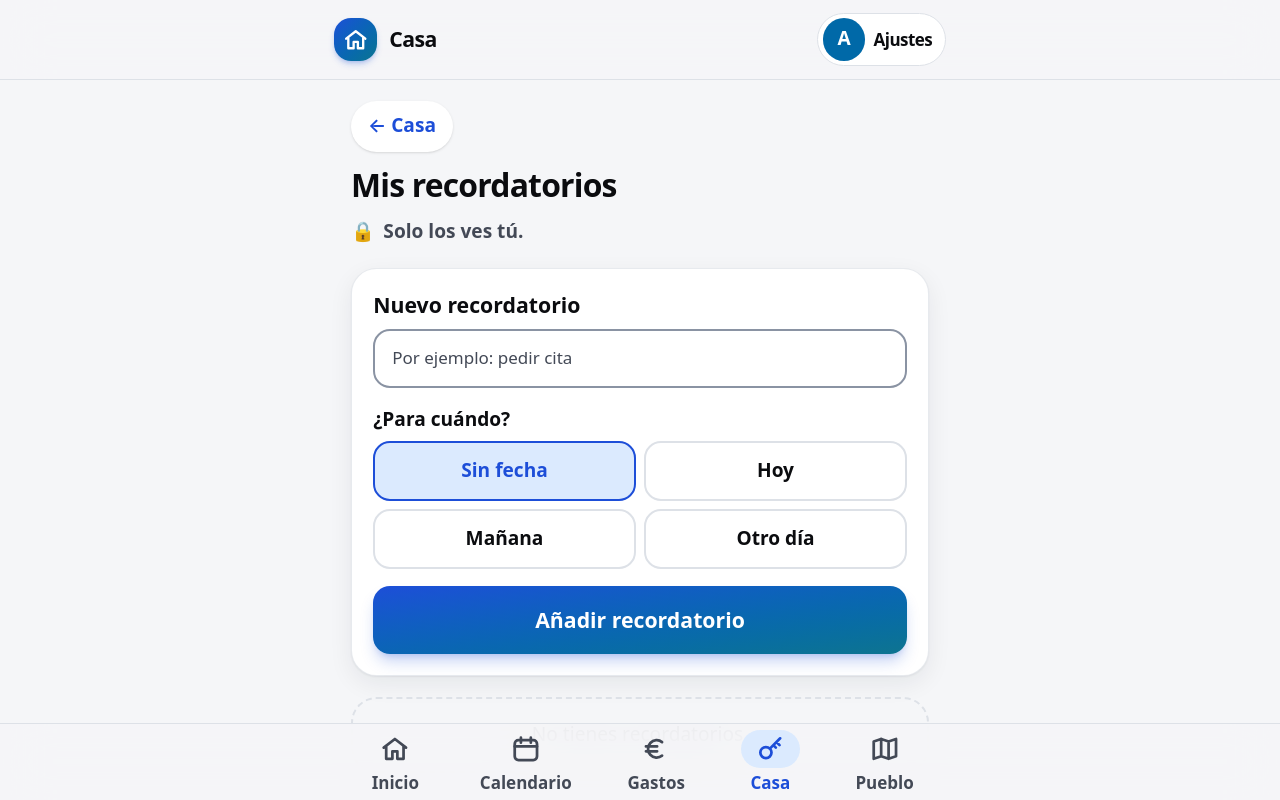
Test: mis recordatorios › sin texto no se guarda y lo explica
The width and height of the screenshot is (1280, 800).
Click the button "Añadir recordatorio": {"x": 640, "y": 620} [373,586,907,654]
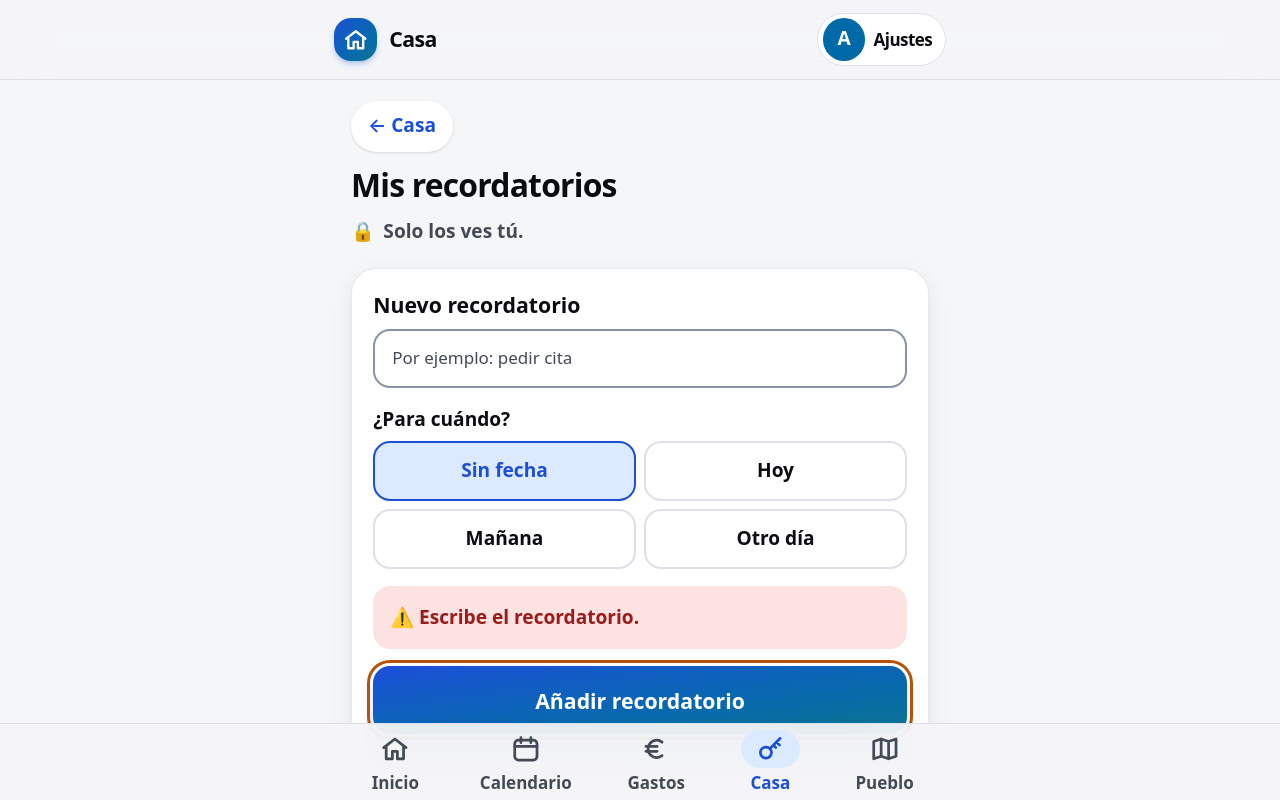
Expected: the text "Escribe el recordatorio." is shown, [419,604,639,630]
